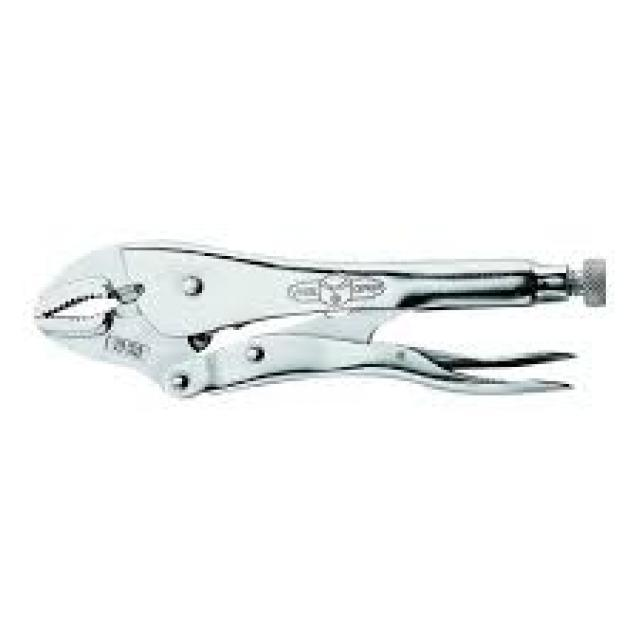pliers: (27, 231, 620, 407)
